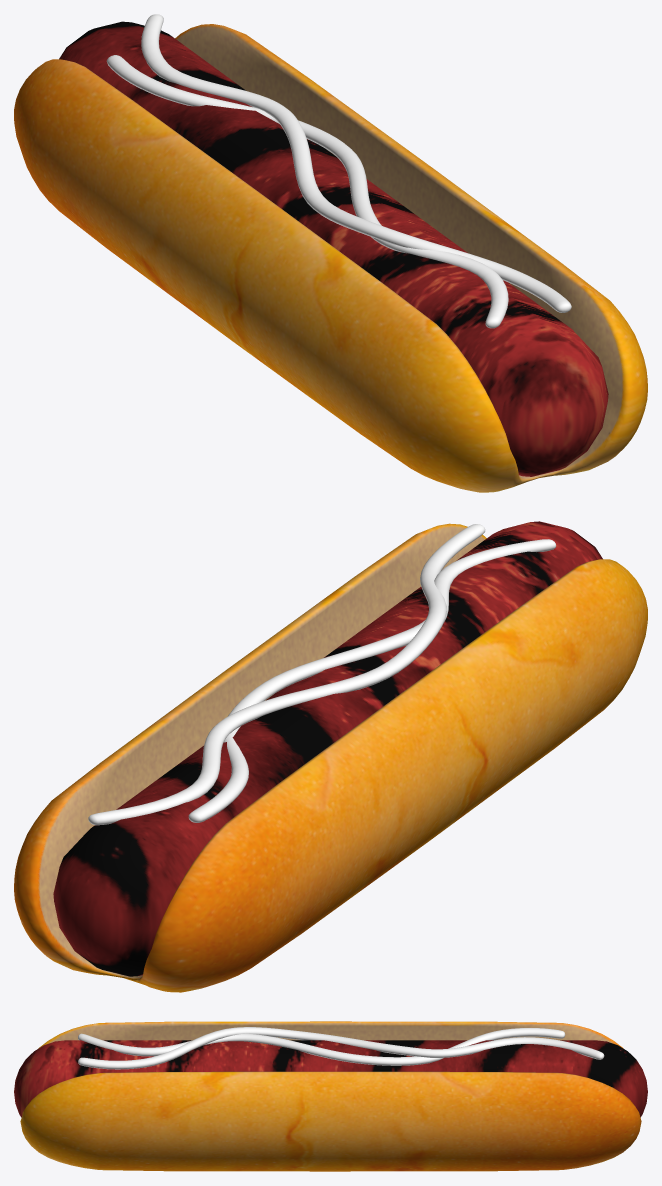
The model's file is HotDog.fbx.
3 views of the same model, one above another, from view 1: azimuth 30°, elevation 25°; view 2: azimuth 150°, elevation 25°; view 3: azimuth 270°, elevation 25° (orthographic). The views are drawn at different scales.
Parts seen in each view (by area): view 1: HotDogBun_LOD0; view 2: HotDogBun_LOD0; view 3: HotDogBun_LOD0.
Boxes of the visible parts, x1,y1,x2,y2 form: HotDogBun_LOD0: (14,14,647,492); HotDogBun_LOD0: (14,521,647,992); HotDogBun_LOD0: (14,1021,647,1171).
Size of what is drawn, in the model's own units: 235 by 165 by 800.
